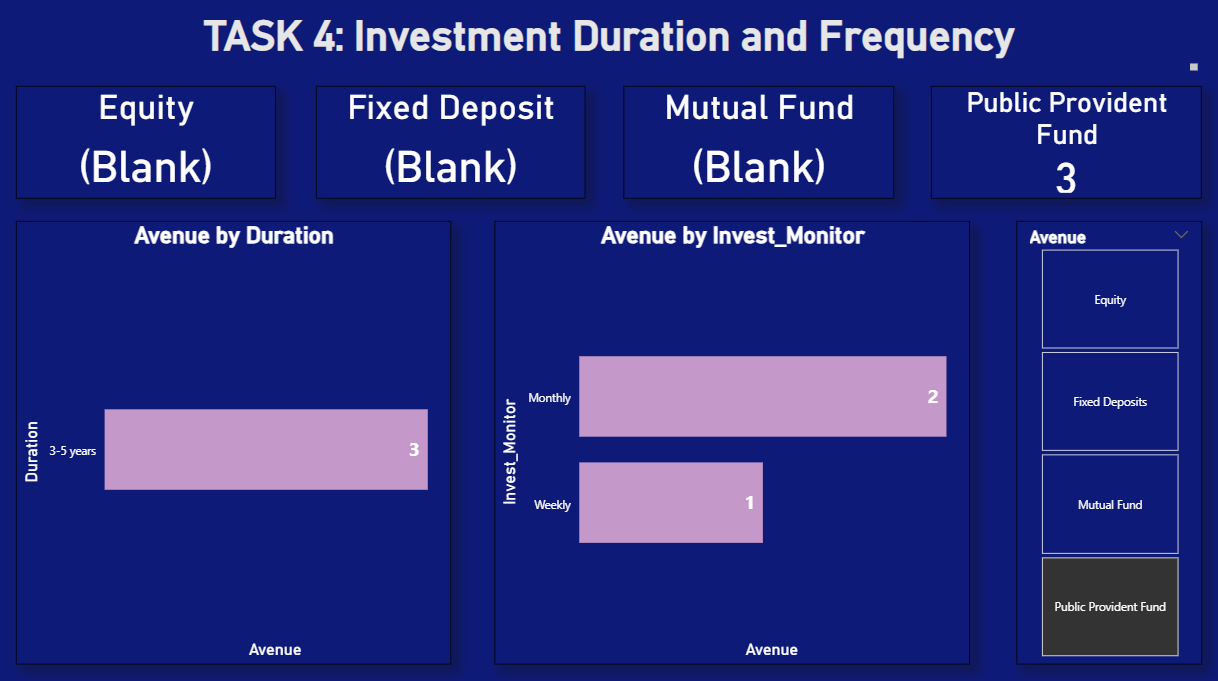

This screenshot's page, from the dashboard's own definition file:
{"tool":"powerbi","page":{"name":"Task 4","canvas":[1280,720],"ordinal":3},"visuals":[{"type":"textbox","title":"TASK 4: Investment Duration and Frequency","box":[21.8,18.5,1236.3,67.2],"z":0},{"type":"clusteredBarChart","title":"Avenue by Duration","fields":{"Category":["Data_set 2.Duration"],"Y":["CountNonNull(Data_set 2.Avenue)"]},"box":[21.8,236.9,453.5,461.9],"z":1000},{"type":"clusteredBarChart","title":"Avenue by Invest_Monitor","fields":{"Y":["CountNonNull(Data_set 2.Avenue)"],"Category":["Data_set 2.Invest_Monitor"]},"box":[520.7,236.9,495.5,461.9],"z":2000},{"type":"slicer","fields":{"Values":["Data_set 2.Avenue"]},"box":[1065,236.9,193.2,461.9],"z":3000},{"type":"card","title":"Equity","fields":{"Values":["Data_set 2.Equity"]},"box":[21.8,97.4,270.4,117.6],"z":4000},{"type":"card","title":"Fixed Deposit","fields":{"Values":["Data_set 2.Fixed Deposits"]},"box":[334.3,97.4,280.5,117.6],"z":5000},{"type":"card","title":"Public Provident Fund","fields":{"Values":["Data_set 2.Public Provident Fund"]},"box":[976,97.4,282.2,117.6],"z":6000},{"type":"card","title":"Mutual Fund","fields":{"Values":["Data_set 2.Mutual Fund"]},"box":[655.1,97.4,282.2,117.6],"z":7000}]}

Visuals, with their boxes in screenshot pixels (x1, y1, x2, y2), scaled from the page's 1280x720 canvas onto the 1218x681 screenshot:
"TASK 4: Investment Duration and Frequency" textbox: 21/17/1197/81
"Avenue by Duration" clusteredBarChart: 21/224/452/661
"Avenue by Invest_Monitor" clusteredBarChart: 495/224/967/661
slicer - Data_set 2.Avenue: 1013/224/1197/661
"Equity" card: 21/92/278/203
"Fixed Deposit" card: 318/92/585/203
"Public Provident Fund" card: 929/92/1197/203
"Mutual Fund" card: 623/92/892/203
